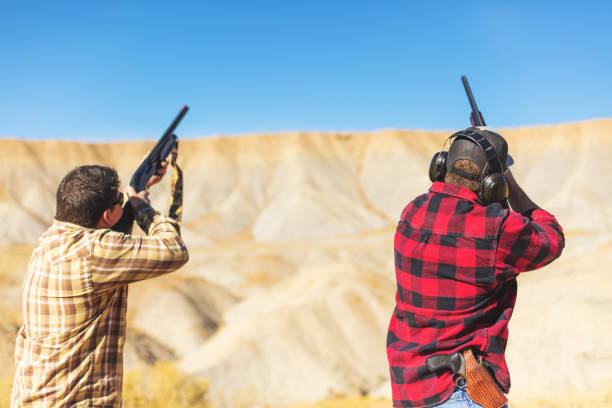gun: (110, 104, 191, 234), (462, 75, 537, 215), (425, 350, 507, 408)
